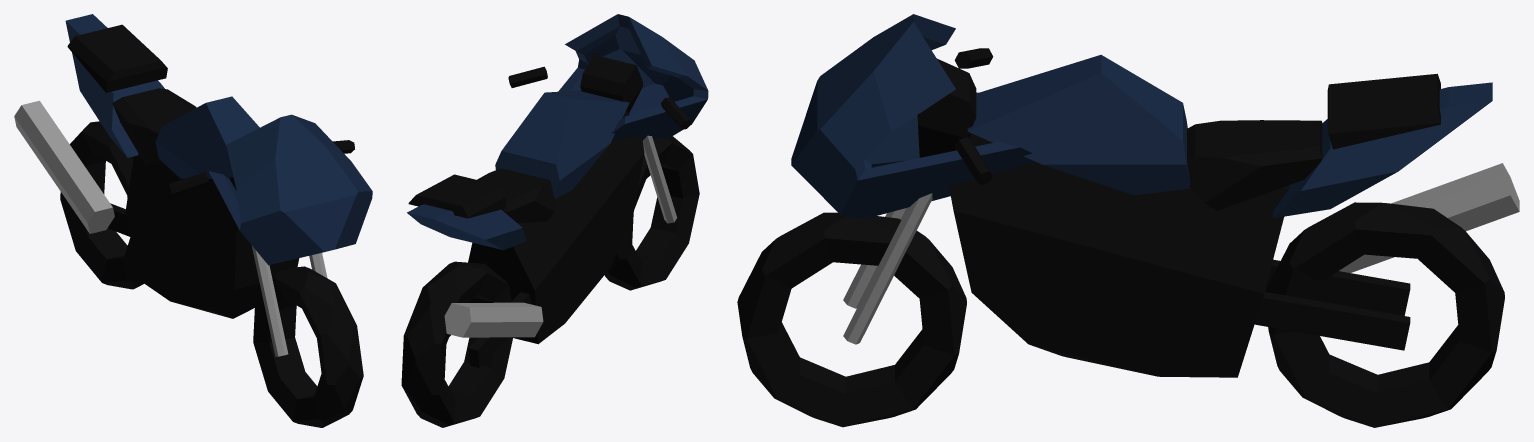
The model's file is Motorcycle.obj.
3 views of the same model, side by side, from view 1: azimuth 30°, elevation 25°; view 2: azimuth 150°, elevation 25°; view 3: azimuth 270°, elevation 25° (orthographic). The views are drawn at different scales.
Visible parts, largest first — view 1: test.008_test.041, test.006_test.028, test.005_test.025, test.003_test.025, test_test.001, test.007_test.029, test.004_test.014, test.002_test.010, test.001_test.017, test.012_test.047, test.009_test.042, Cube_Cube.004; view 2: test.006_test.028, test.003_test.025, test.008_test.041, test_test.001, test.005_test.025, test.007_test.029, test.001_test.017, test.004_test.014, test.002_test.010, test.011_test.046, test.012_test.047, Cube_Cube.004 (+2 smaller); view 3: test.006_test.028, test.003_test.025, test.005_test.025, test.008_test.041, test_test.001, test.002_test.010, test.001_test.017, test.004_test.014, Cube.002_Cube.004, test.007_test.029, test.011_test.046, Cube_Cube.004 (+3 smaller).
Part boxes in pixels (bbox=[...]): test.008_test.041: bbox=[208, 114, 372, 265]; test.006_test.028: bbox=[125, 153, 299, 318]; test.005_test.025: bbox=[253, 266, 363, 427]; test.003_test.025: bbox=[60, 121, 143, 289]; test_test.001: bbox=[155, 96, 259, 178]; test.007_test.029: bbox=[14, 100, 114, 233]; test.004_test.014: bbox=[67, 24, 167, 92]; test.002_test.010: bbox=[112, 88, 196, 166]; test.001_test.017: bbox=[65, 14, 164, 157]; test.012_test.047: bbox=[251, 245, 288, 356]; test.009_test.042: bbox=[169, 172, 209, 196]; Cube_Cube.004: bbox=[108, 203, 130, 236]; test.006_test.028: bbox=[468, 111, 644, 344]; test.003_test.025: bbox=[401, 261, 513, 427]; test.008_test.041: bbox=[558, 14, 708, 140]; test_test.001: bbox=[495, 90, 629, 198]; test.005_test.025: bbox=[604, 136, 699, 290]; test.007_test.029: bbox=[444, 302, 543, 337]; test.001_test.017: bbox=[407, 204, 526, 250]; test.004_test.014: bbox=[408, 174, 507, 218]; test.002_test.010: bbox=[477, 168, 554, 222]; test.011_test.046: bbox=[580, 55, 642, 113]; test.012_test.047: bbox=[642, 135, 677, 223]; Cube_Cube.004: bbox=[468, 292, 531, 367]; test.006_test.028: bbox=[949, 132, 1289, 377]; test.003_test.025: bbox=[1265, 202, 1504, 427]; test.005_test.025: bbox=[737, 212, 966, 427]; test.008_test.041: bbox=[791, 14, 1035, 218]; test_test.001: bbox=[967, 55, 1190, 195]; test.002_test.010: bbox=[1187, 120, 1322, 210]; test.001_test.017: bbox=[1273, 82, 1492, 218]; test.004_test.014: bbox=[1327, 73, 1440, 149]; Cube.002_Cube.004: bbox=[1254, 291, 1410, 350]; test.007_test.029: bbox=[1339, 163, 1519, 272]; test.011_test.046: bbox=[917, 58, 976, 157]; Cube_Cube.004: bbox=[1265, 259, 1410, 315].
Bounding box in the file's own units: 3.57 × 5.29 × 9.36.
